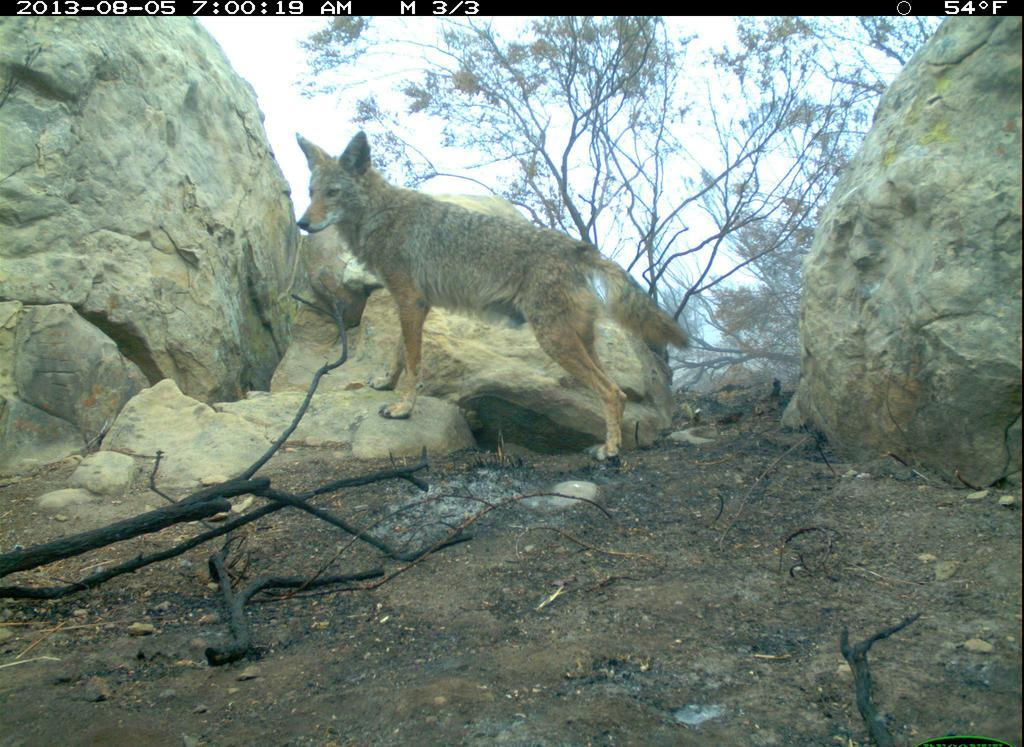coyote: (283, 109, 711, 470)
